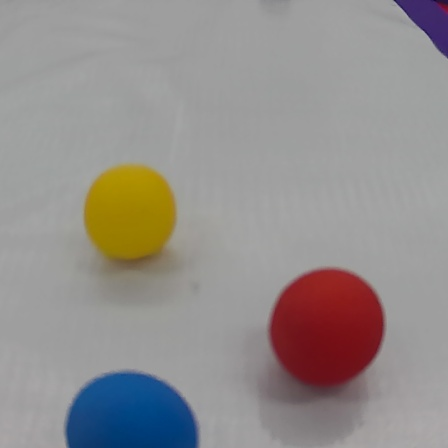blue: (58, 368, 202, 448)
red: (267, 262, 388, 387)
yellow: (86, 164, 180, 267)
